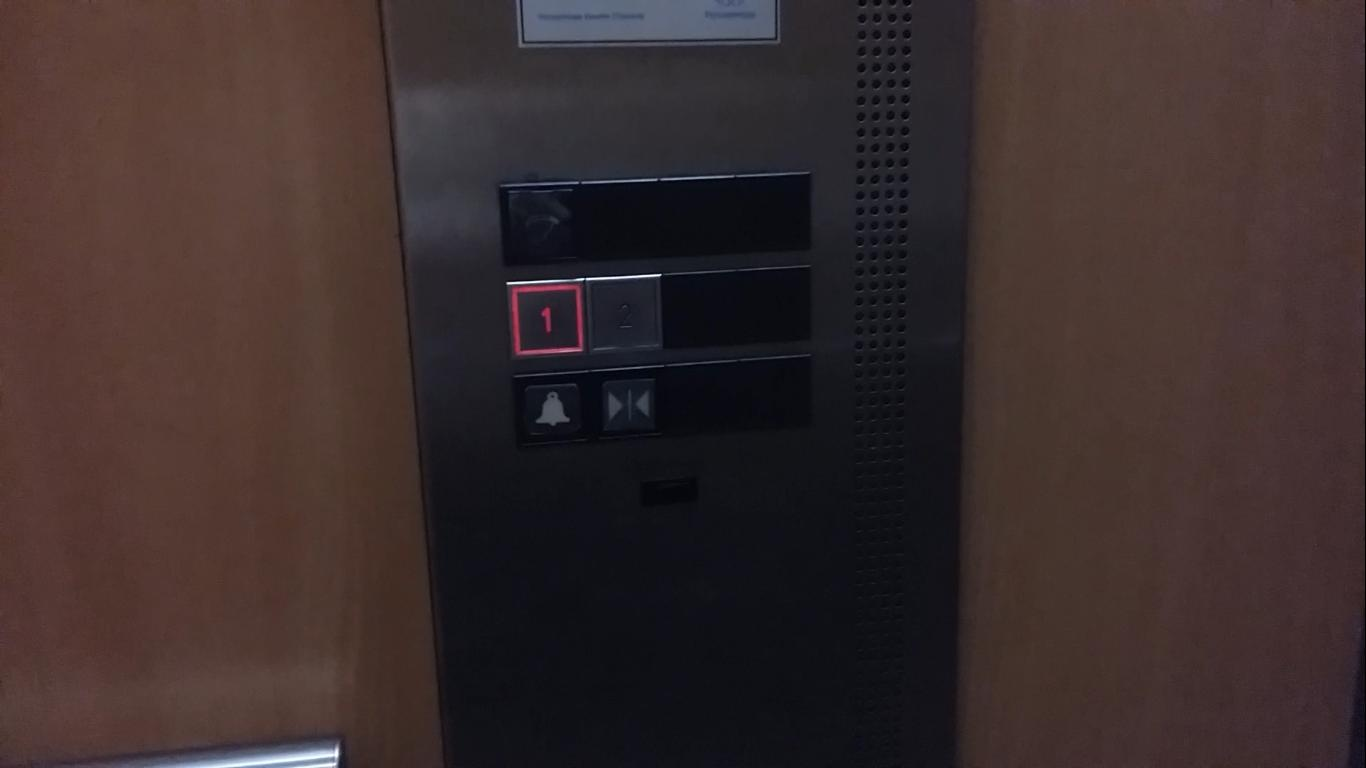1: (500, 274, 595, 362)
2: (583, 272, 670, 355)
alarm: (505, 365, 598, 452)
blur: (493, 175, 591, 264)
close: (586, 360, 672, 445)
empty: (575, 173, 673, 266), (659, 170, 745, 260), (731, 165, 816, 255), (657, 264, 746, 349), (661, 355, 746, 442), (735, 259, 816, 349), (736, 351, 816, 439)
